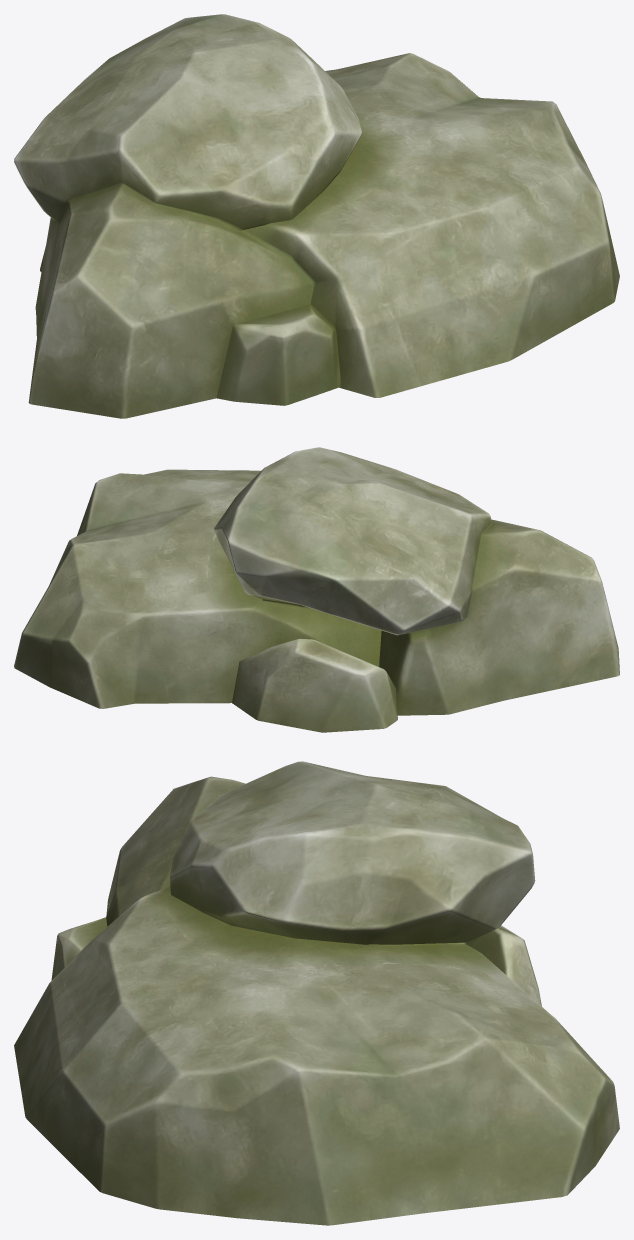
File: TangDa.fbx
The picture shows the model from 3 angles, top to bottom: view 1: azimuth 30°, elevation 25°; view 2: azimuth 150°, elevation 25°; view 3: azimuth 270°, elevation 25°; orthographic projection. The views are drawn at different scales.
Parts seen in each view (by area): view 1: pasted__pasted__stoneC_PLY3; view 2: pasted__pasted__stoneC_PLY3; view 3: pasted__pasted__stoneC_PLY3.
Boxes of the visible parts, x1,y1,x2,y2 form: pasted__pasted__stoneC_PLY3: (14, 14, 619, 418); pasted__pasted__stoneC_PLY3: (14, 447, 619, 732); pasted__pasted__stoneC_PLY3: (14, 761, 619, 1225).
Bounding box in the file's own units: 13.51 × 4.9 × 10.7.
1 material, 1 textured.
